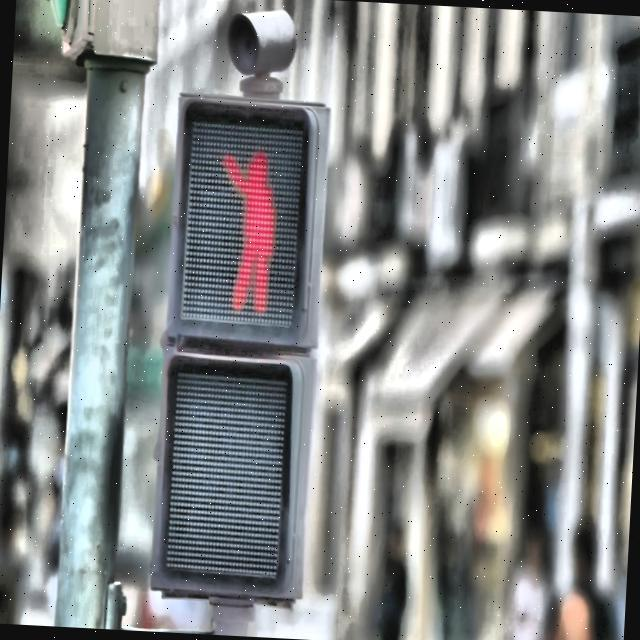red_light: (212, 138, 283, 318)
